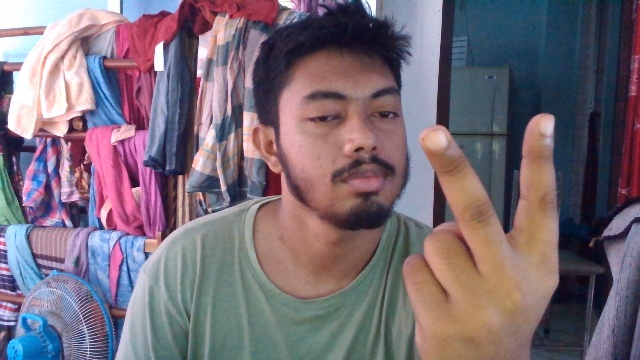thanks: (404, 106, 561, 358)
